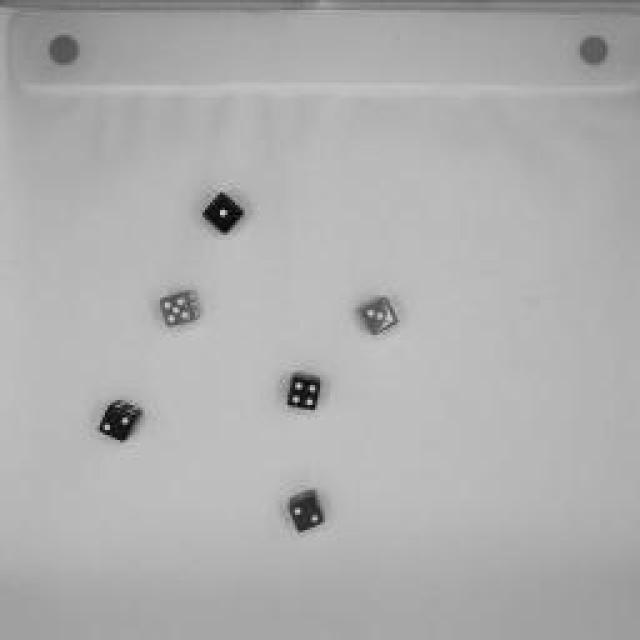dice_1: (200, 188, 255, 238)
dice_2: (282, 485, 332, 540), (95, 398, 145, 448)
dice_3: (352, 292, 402, 340)
dice_4: (285, 370, 325, 412)
dice_5: (156, 290, 204, 330)
